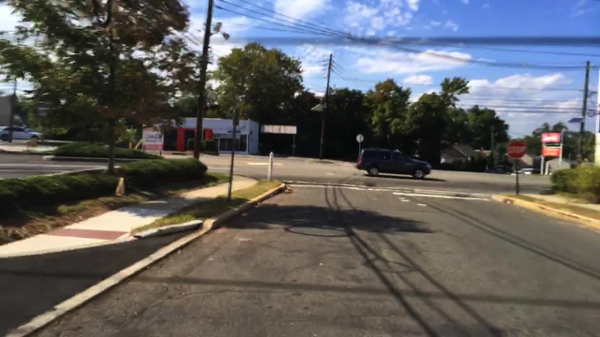car: (357, 148, 430, 181), (1, 126, 43, 143)
traffic sign: (504, 139, 525, 159), (356, 134, 364, 142)
